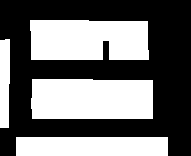parkingspot: (16, 137, 167, 156), (31, 98, 152, 118), (30, 20, 147, 40), (32, 79, 152, 98), (31, 40, 102, 59), (0, 39, 9, 127), (109, 40, 148, 59)
